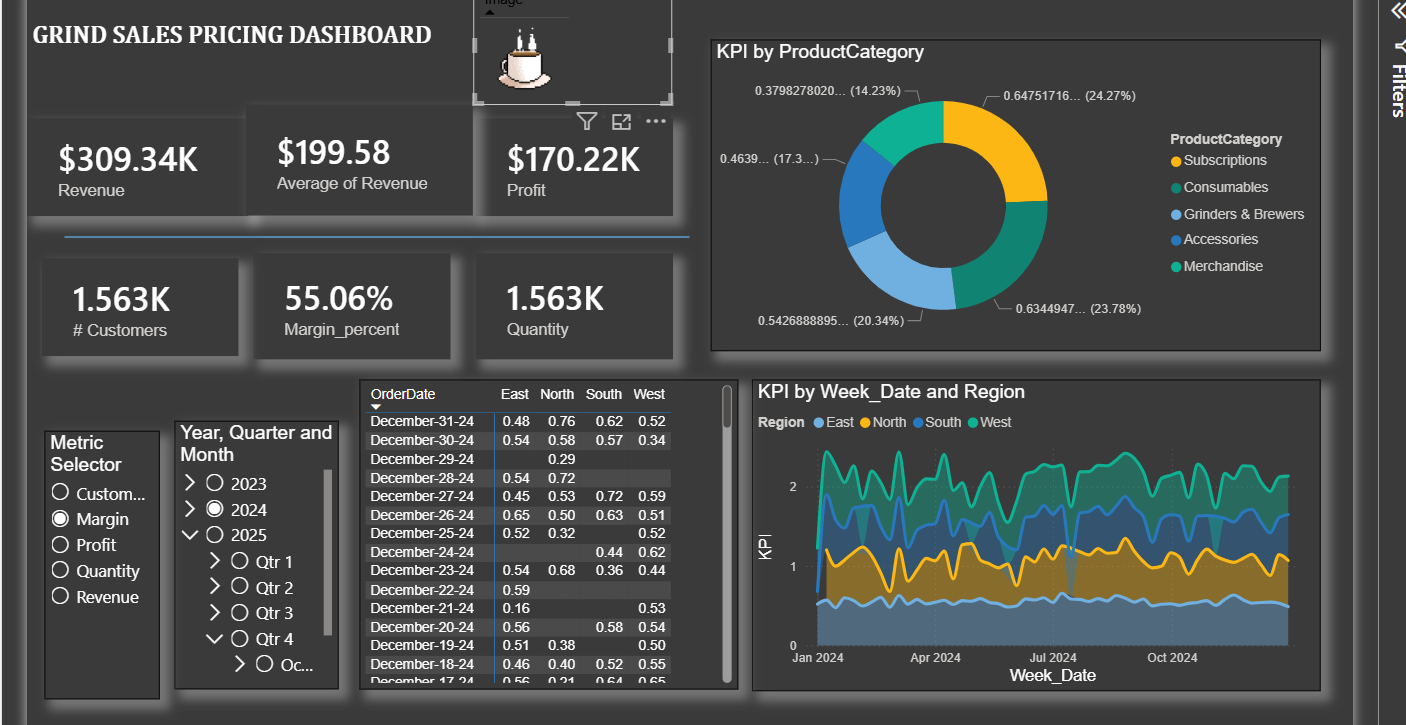

The dashboard page shown, as its layout file describes it:
{"tool":"powerbi","page":{"name":"Page 1","canvas":[1280,720],"ordinal":0},"visuals":[{"type":"donutChart","fields":{"Category":["Query1.ProductCategory"],"Y":["Query1.KPI"]},"box":[659.9,50.7,588.7,300.4],"z":0},{"type":"stackedAreaChart","fields":{"Series":["Query1.Region"],"Y":["Query1.KPI"],"Category":["Query1.Week_Date"]},"box":[699.7,378.8,548.9,300.4],"z":1000},{"type":"pivotTable","fields":{"Columns":["Query1.Region"],"Rows":["Query1.OrderDate"],"Values":["Query1.KPI"]},"box":[320.9,378.8,365.6,299.2],"z":2000},{"type":"cardVisual","fields":{"Data":["Sum(Query1.Revenue)"]},"box":[0,126.7,213.5,94.1],"z":3000},{"type":"shape","box":[36.2,225.6,603.2,31.4],"z":4000},{"type":"listSlicer","fields":{"Values":["Query1.OrderDate.Variation.Date Hierarchy.Year","Query1.OrderDate.Variation.Date Hierarchy.Quarter","Query1.OrderDate.Variation.Date Hierarchy.Month","Query1.OrderDate.Variation.Date Hierarchy.Day"]},"box":[142.4,418.6,158,259.4],"z":5000},{"type":"cardVisual","fields":{"Data":["Sum(Query1.Profit)"]},"box":[433.1,126.7,190.6,94.1],"z":6000},{"type":"cardVisual","fields":{"Data":["Avg(Query1.Revenue)"]},"box":[211.1,113.4,219.6,107.4],"z":7000},{"type":"cardVisual","fields":{"Data":["CountNonNull(Query1.Quantity)"]},"box":[433.1,257,190.6,102.5],"z":8000},{"type":"cardVisual","fields":{"Data":["Query1.Margin_percent"]},"box":[218.4,257,190.6,102.5],"z":9000},{"type":"cardVisual","fields":{"Data":["CountNonNull(Query1.CustomerID)"]},"box":[14.5,261.8,189.4,94.1],"z":10000},{"type":"listSlicer","fields":{"Values":["Metric Selector.Metric Selector"]},"box":[16.9,428.3,111,259.4],"z":11000},{"type":"tableEx","fields":{"Values":["image.Image"]},"box":[430.7,0,191.8,113.4],"z":12000},{"type":"textbox","box":[0,29,406.6,61.5],"z":13000}]}

Visuals, with their boxes on the page's 1280x720 design canvas (x1, y1, x2, y2). These are canvas units, not pixel positions in the 1406x725 screenshot, which may show the page scaled, cropped or inside an application window:
donutChart - Query1.ProductCategory x Query1.KPI: x1=660 y1=51 x2=1249 y2=351
stackedAreaChart - Query1.Region x Query1.KPI: x1=700 y1=379 x2=1249 y2=679
pivotTable - Query1.Region x Query1.OrderDate: x1=321 y1=379 x2=686 y2=678
cardVisual - Sum(Query1.Revenue): x1=0 y1=127 x2=214 y2=221
shape: x1=36 y1=226 x2=639 y2=257
listSlicer - Query1.OrderDate.Variation.Date Hierarchy.Year x Query1.OrderDate.Variation.Date Hierarchy.Quarter: x1=142 y1=419 x2=300 y2=678
cardVisual - Sum(Query1.Profit): x1=433 y1=127 x2=624 y2=221
cardVisual - Avg(Query1.Revenue): x1=211 y1=113 x2=431 y2=221
cardVisual - CountNonNull(Query1.Quantity): x1=433 y1=257 x2=624 y2=360
cardVisual - Query1.Margin_percent: x1=218 y1=257 x2=409 y2=360
cardVisual - CountNonNull(Query1.CustomerID): x1=14 y1=262 x2=204 y2=356
listSlicer - Metric Selector.Metric Selector: x1=17 y1=428 x2=128 y2=688
tableEx - image.Image: x1=431 y1=0 x2=622 y2=113
textbox: x1=0 y1=29 x2=407 y2=90
